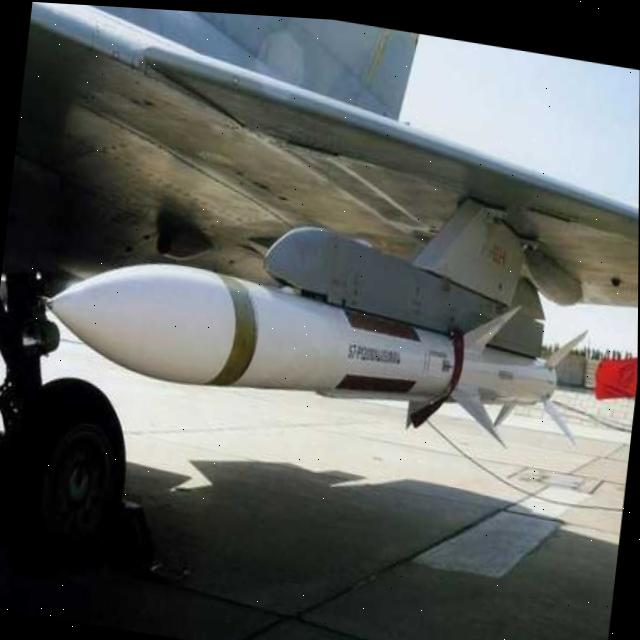missile: (33, 224, 595, 460)
